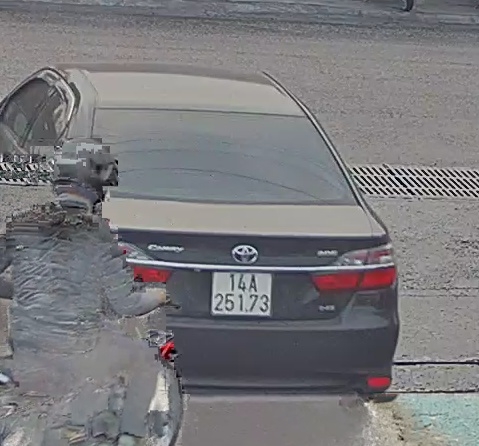vehicle plate: (208, 268, 275, 319)
